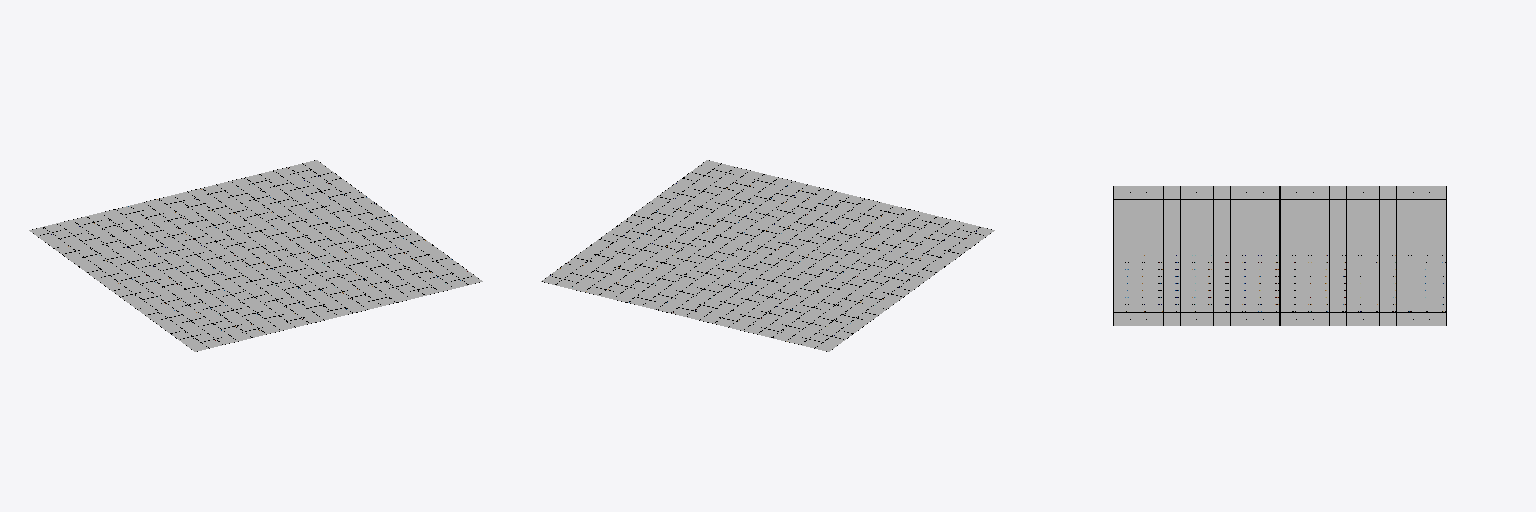
3 renders of one model, left to right at view 1: azimuth 30°, elevation 25°; view 2: azimuth 150°, elevation 25°; view 3: azimuth 270°, elevation 25°, orthographic.
Visible parts, largest first — view 1: Floor; view 2: Floor; view 3: Floor.
Part boxes in pixels (x1,y1,x2,y2): Floor: (29,160,482,351); Floor: (541,160,994,351); Floor: (1113,186,1446,325).
Bounding box in the file's own units: 2000 × 0 × 2000.
Materials: 1 (1 with a texture image).